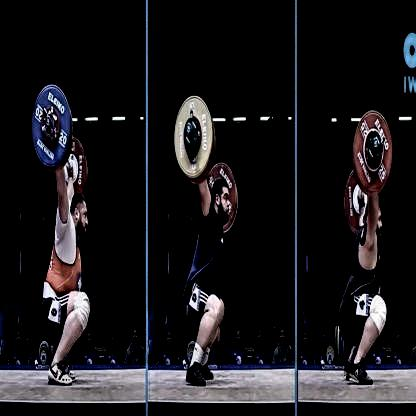Barbell: (184, 121, 193, 138), (45, 114, 54, 130), (373, 138, 381, 154)
